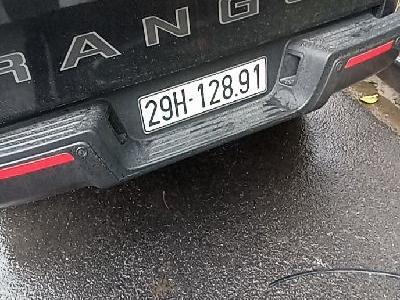car: (136, 54, 268, 134)
